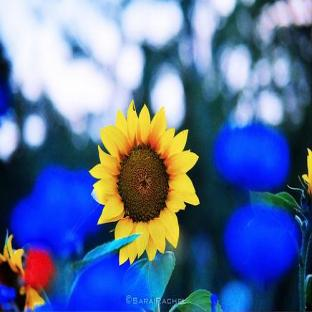sunflower: (89, 101, 200, 264)
